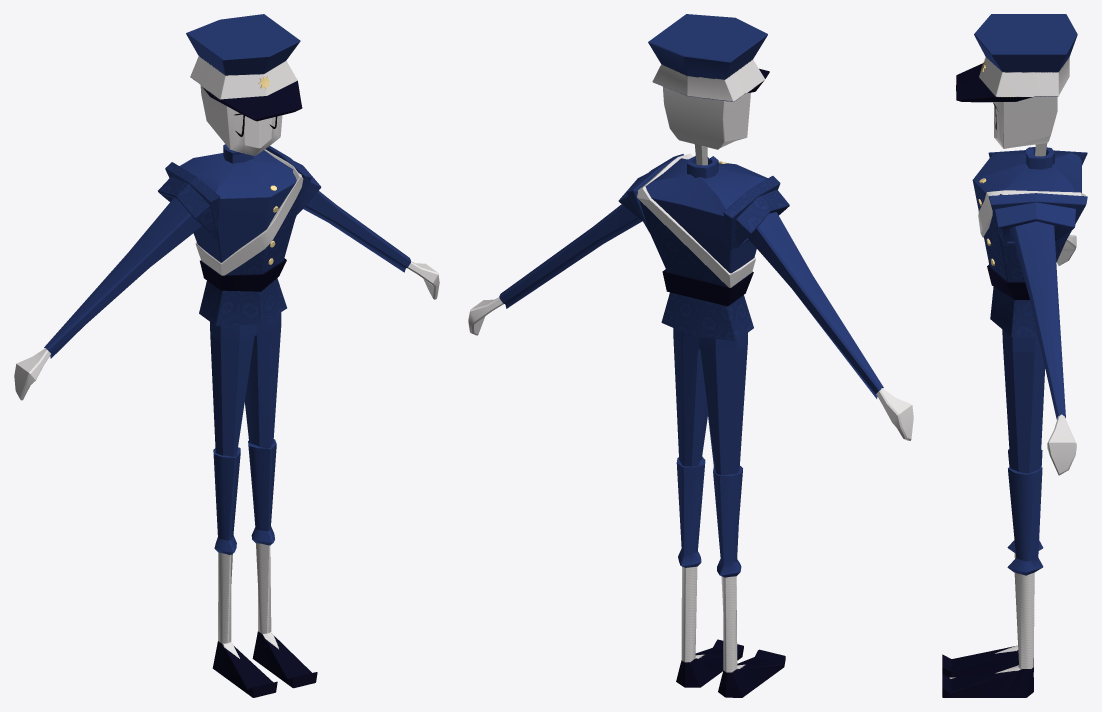
File: Sadao_MDL.fbx
The picture shows the model from 3 angles, left to right: view 1: azimuth 30°, elevation 25°; view 2: azimuth 150°, elevation 25°; view 3: azimuth 270°, elevation 25°; orthographic projection. The views are drawn at different scales.
Parts seen in each view (by area): view 1: Sadao_MDL; view 2: Sadao_MDL; view 3: Sadao_MDL.
Boxes of the visible parts, x1,y1,x2,y2 form: Sadao_MDL: (14,14,439,697); Sadao_MDL: (468,14,913,697); Sadao_MDL: (942,14,1087,697).
Size of the model in its own units: 1.12 by 1.6 by 0.3262.
Materials: 1 (1 with a texture image).
